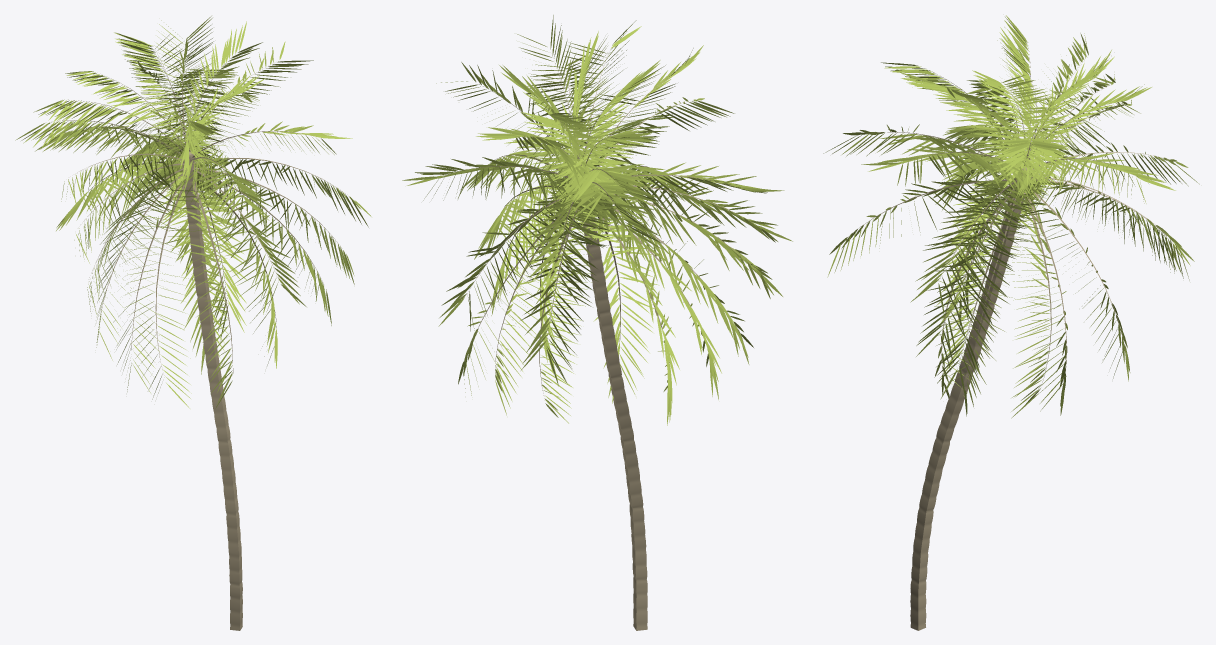
The model's file is palm_tree.glb.
3 renders of one model, left to right at view 1: azimuth 30°, elevation 25°; view 2: azimuth 150°, elevation 25°; view 3: azimuth 270°, elevation 25°, orthographic. The views are drawn at different scales.
Visible parts, largest first — view 1: Object_2, Object_3, Object_5, Object_4; view 2: Object_3, Object_2, Object_5, Object_4; view 3: Object_2, Object_3, Object_5, Object_4.
Boxes of the visible parts, box(x1,y1,x2,y2) form: Object_2: box(21, 16, 361, 408); Object_3: box(15, 18, 371, 404); Object_5: box(182, 151, 242, 630); Object_4: box(59, 57, 342, 373); Object_3: box(402, 15, 784, 419); Object_2: box(407, 21, 792, 425); Object_5: box(581, 212, 647, 630); Object_4: box(455, 56, 762, 395); Object_2: box(829, 17, 1194, 418); Object_3: box(823, 15, 1199, 414); Object_5: box(910, 167, 1026, 630); Object_4: box(846, 51, 1167, 383).
Size of the model in its own units: 7.61 by 13.64 by 7.87.
